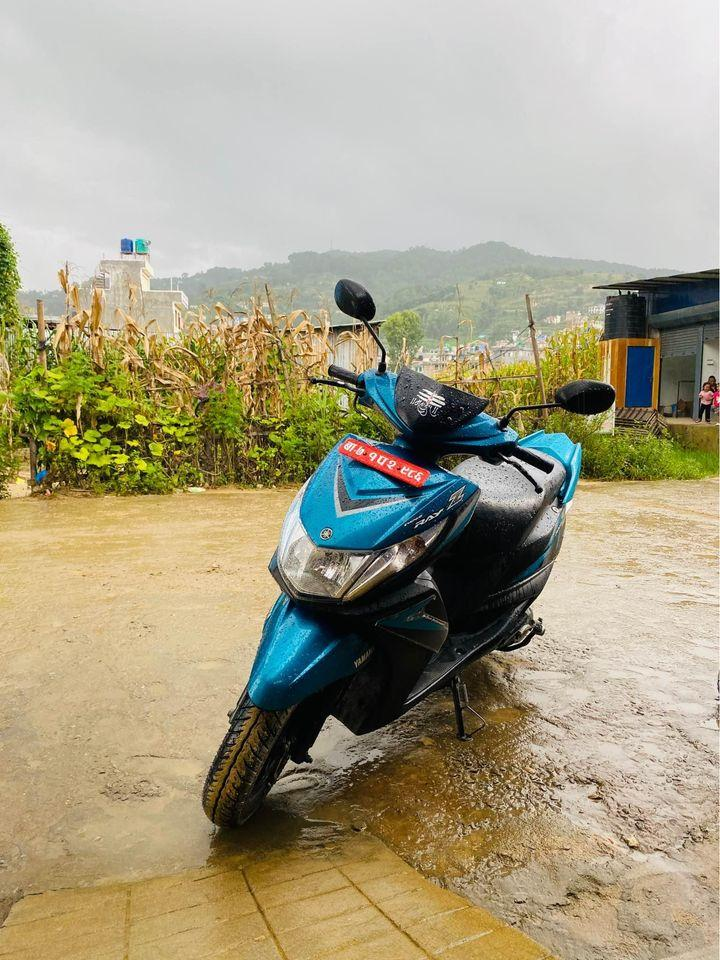scooter: (181, 279, 619, 824)
